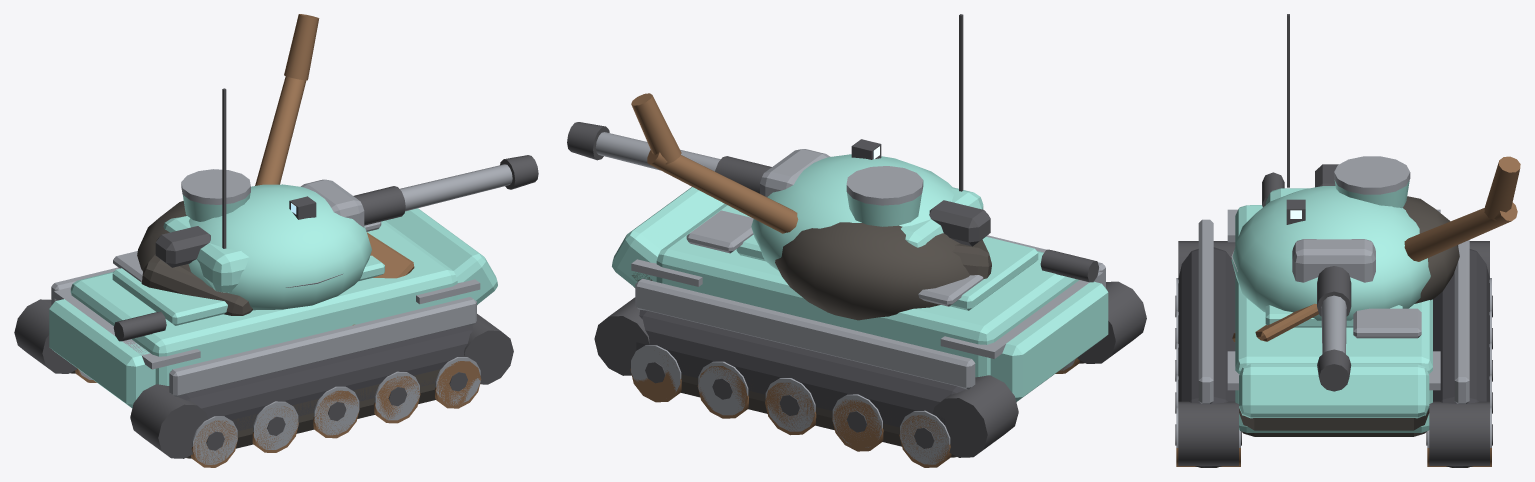
The model's file is tank-b7b1ded3.glb.
3 views of the same model, side by side, from view 1: azimuth 30°, elevation 25°; view 2: azimuth 150°, elevation 25°; view 3: azimuth 270°, elevation 25° (orthographic). The views are drawn at different scales.
Parts seen in each view (by area): view 1: tank_Paint, tank_Steel, Turret_Paint, tank_Dark, tank_Track, wreck_Rust, WBarrel_Rust, WTurret_Char, Turret_Steel, Turret_Dark, Barrel_Steel, Barrel_Dark (+1 smaller); view 2: tank_Paint, tank_Steel, WTurret_Char, tank_Track, tank_Dark, Turret_Paint, wreck_Rust, WBarrel_Rust, Turret_Steel, Turret_Dark, Barrel_Dark, Barrel_Steel (+1 smaller); view 3: tank_Paint, Turret_Paint, tank_Track, tank_Steel, tank_Dark, Turret_Steel, WBarrel_Rust, wreck_Char, Barrel_Dark, WTurret_Char, Barrel_Steel, Turret_Dark (+1 smaller).
Boxes of the visible parts, x1,y1,x2,y2 form: tank_Paint: [49, 208, 497, 407]; tank_Steel: [51, 221, 480, 464]; Turret_Paint: [163, 184, 371, 310]; tank_Dark: [14, 299, 513, 458]; tank_Track: [178, 325, 473, 430]; wreck_Rust: [75, 232, 481, 467]; WBarrel_Rust: [255, 14, 319, 185]; WTurret_Char: [137, 201, 252, 315]; Turret_Steel: [181, 169, 364, 287]; Turret_Dark: [155, 88, 316, 267]; Barrel_Steel: [400, 164, 512, 211]; Barrel_Dark: [353, 155, 538, 225]; tank_Paint: [612, 187, 1108, 401]; tank_Steel: [631, 210, 1105, 464]; WTurret_Char: [775, 222, 991, 320]; tank_Track: [636, 310, 965, 427]; tank_Dark: [594, 249, 1146, 457]; Turret_Paint: [751, 154, 983, 270]; wreck_Rust: [630, 355, 1079, 467]; WBarrel_Rust: [631, 93, 798, 233]; Turret_Steel: [760, 149, 923, 205]; Turret_Dark: [851, 14, 990, 246]; Barrel_Dark: [567, 122, 771, 193]; Barrel_Steel: [595, 132, 720, 171]; tank_Paint: [1235, 205, 1432, 432]; Turret_Paint: [1231, 180, 1430, 320]; tank_Track: [1178, 247, 1489, 467]; tank_Steel: [1176, 209, 1491, 447]; tank_Dark: [1175, 172, 1492, 465]; Turret_Steel: [1231, 156, 1410, 282]; WBarrel_Rust: [1404, 156, 1520, 261]; wreck_Char: [1195, 408, 1472, 467]; Barrel_Dark: [1317, 266, 1351, 391]; WTurret_Char: [1403, 196, 1459, 303]; Barrel_Steel: [1321, 295, 1346, 353]; Turret_Dark: [1286, 14, 1338, 224].
Bounding box in the file's own units: 1.47 × 1.09 × 0.9077.
